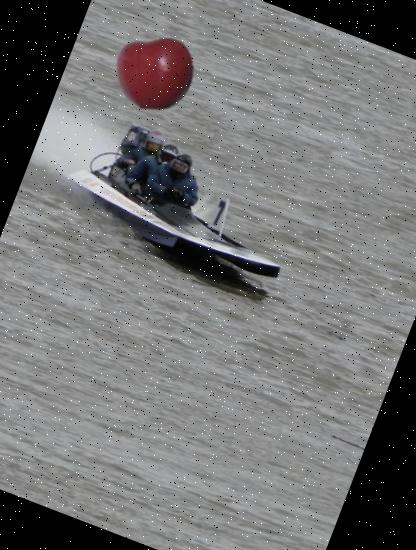Cherry: (102, 21, 205, 125)
